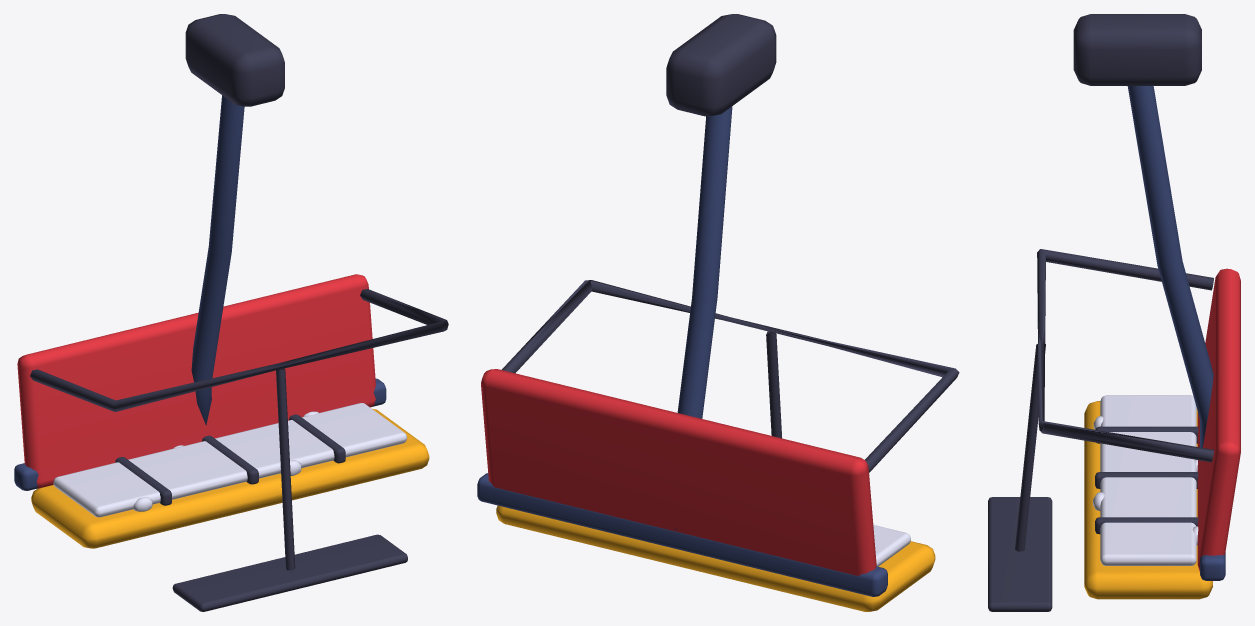
The model's file is frost_lift_chair.glb.
3 views of the same model, side by side, from view 1: azimuth 30°, elevation 25°; view 2: azimuth 150°, elevation 25°; view 3: azimuth 270°, elevation 25° (orthographic). The views are drawn at different scales.
Parts seen in each view (by area): view 1: LiftChair; view 2: LiftChair; view 3: LiftChair.
Part boxes in pixels (x1=…): LiftChair: x1=14, y1=14, x2=448, y2=611; LiftChair: x1=477, y1=14, x2=959, y2=611; LiftChair: x1=988, y1=14, x2=1240, y2=611.
Size of the model in its own units: 2.1 by 2.78 by 1.18.
